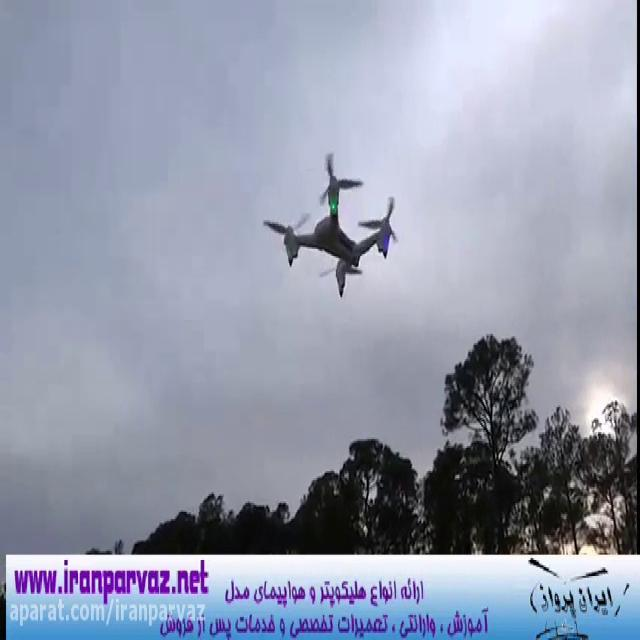drone: (258, 144, 402, 302)
